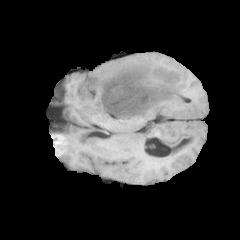glioma: (86, 57, 186, 120)
